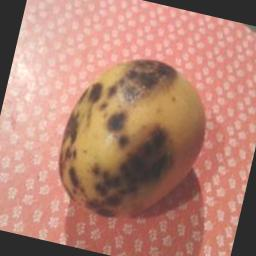Mango Rotten: (54, 42, 228, 238)
